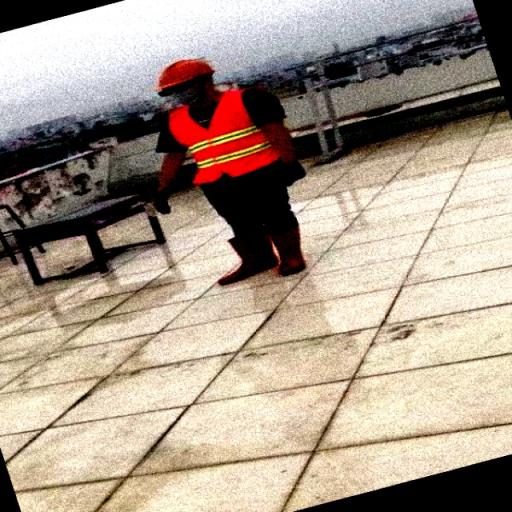Person: (137, 52, 327, 297)
boots: (214, 224, 276, 289), (267, 214, 313, 284)
gloves: (279, 154, 313, 185), (146, 189, 180, 217)
goggles: (150, 82, 212, 96)
helmet: (147, 56, 223, 88)
vest: (171, 85, 276, 193)
